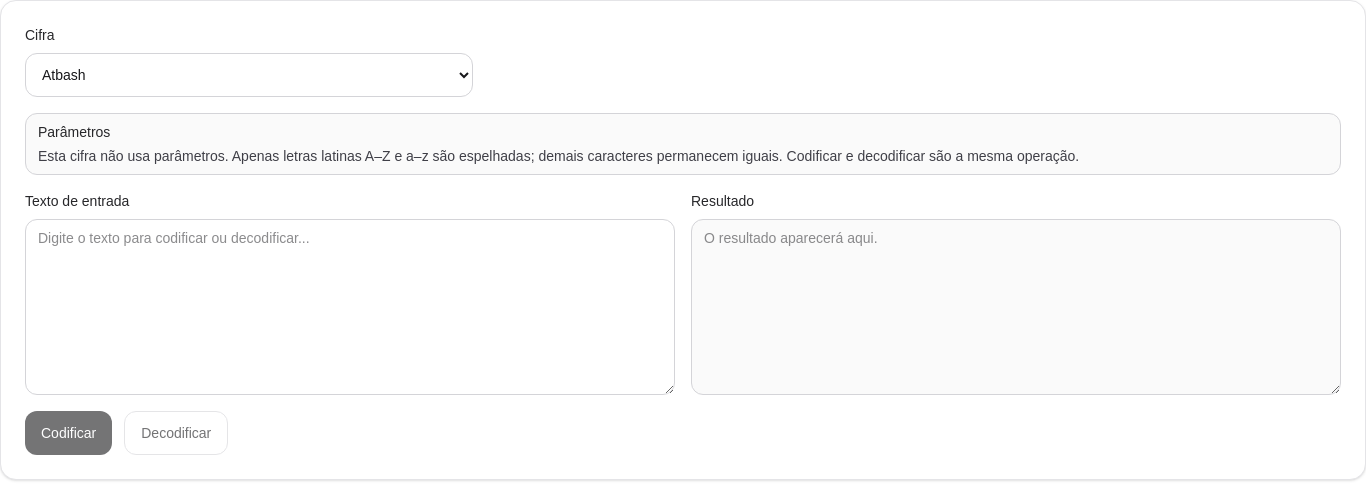
Test: CipherWorkspace › Codificar aplica a cifra Atbash (primeira do registry)
Type "abc def" into the text box labelled "Texto de entrada" at {"x": 350, "y": 307}, box left=25, top=219, right=675, bottom=395
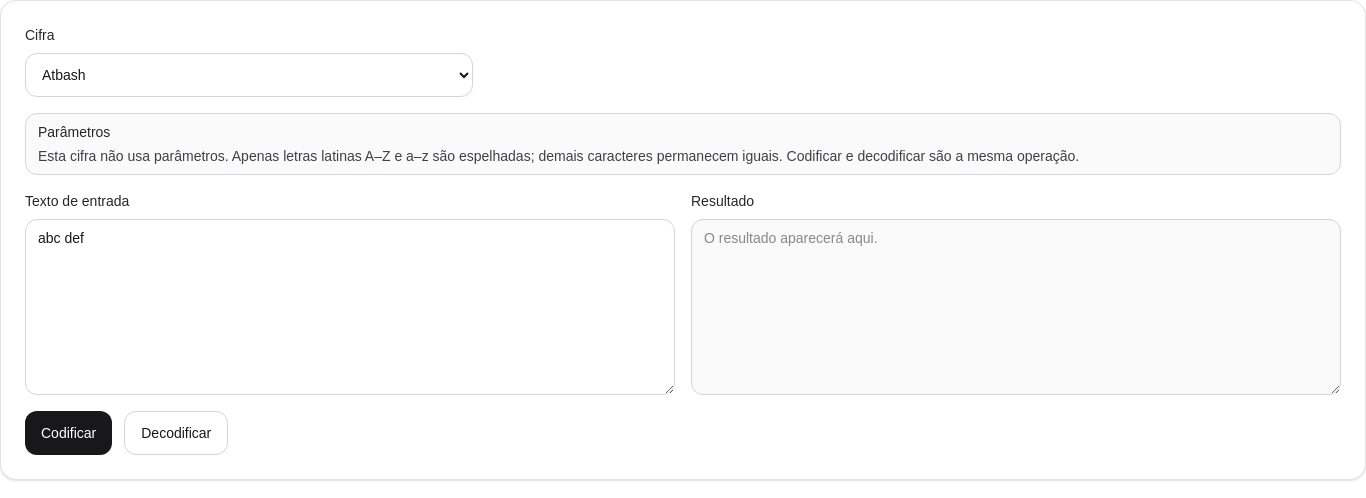
Click the button "Codificar" at {"x": 69, "y": 433}, box left=25, top=411, right=112, bottom=455
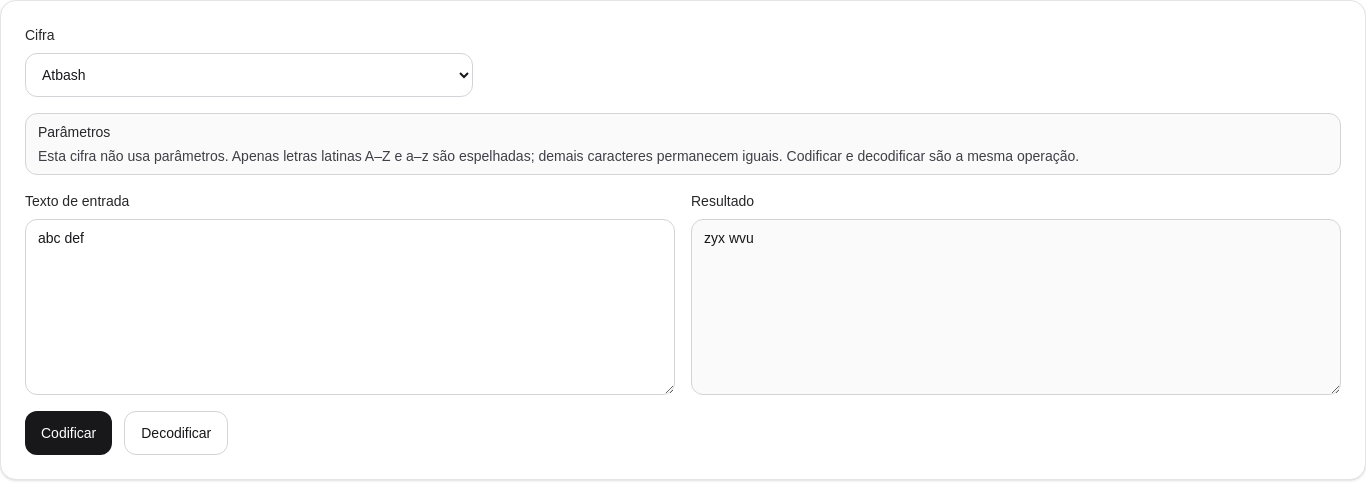
Check: the text box labelled "Resultado" holds "zyx wvu", box left=691, top=219, right=1341, bottom=395
